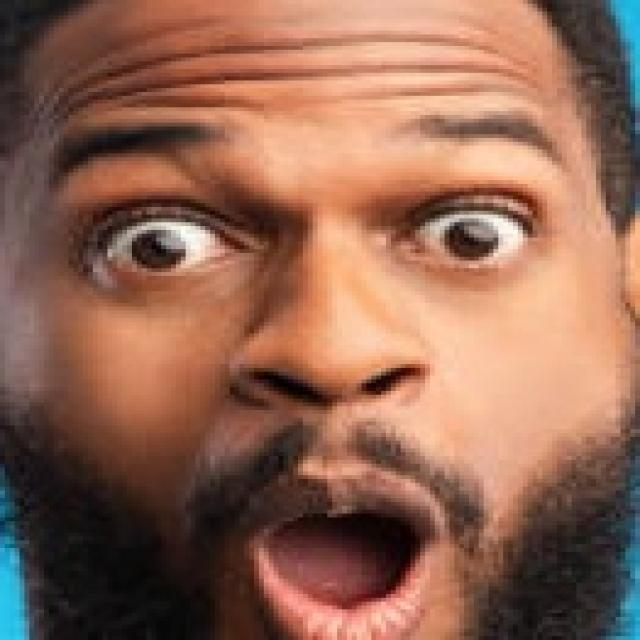Anxiety: (5, 0, 640, 636)
